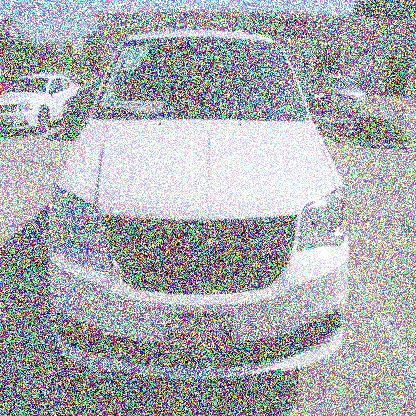Vehicle: (51, 32, 348, 381)
